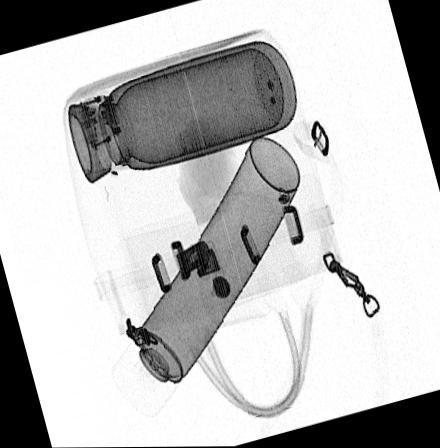Sprayer: (111, 138, 298, 416)
